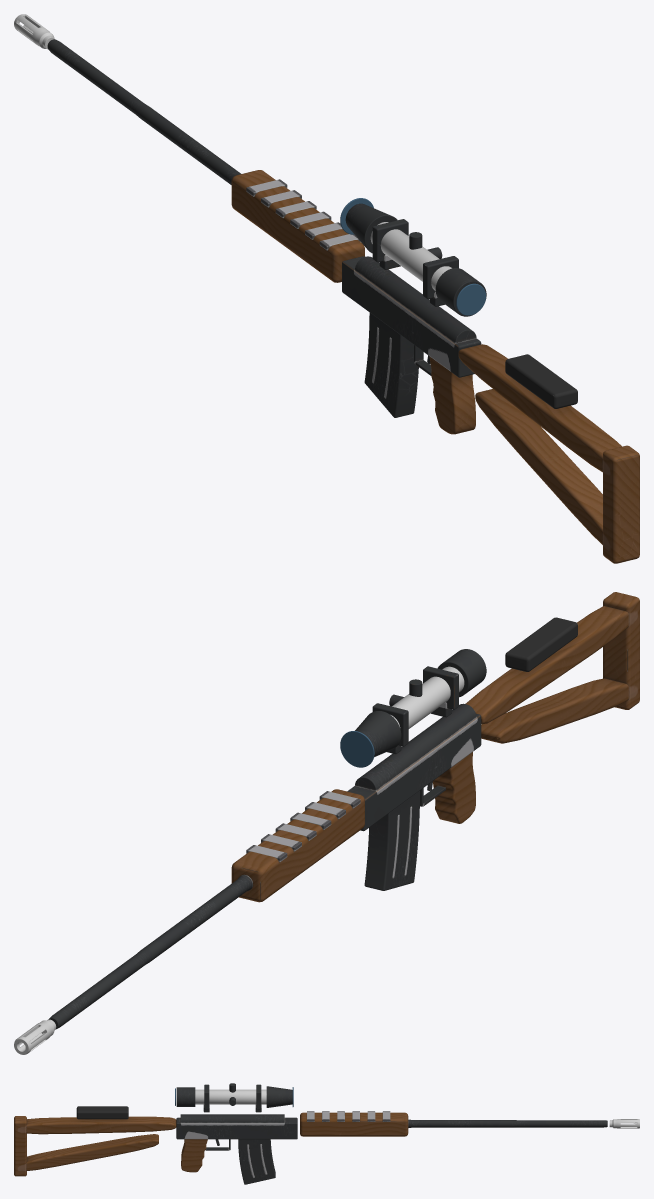
Rendered from svd.gltf.
3 renders of one model, top to bottom at view 1: azimuth 30°, elevation 25°; view 2: azimuth 150°, elevation 25°; view 3: azimuth 270°, elevation 25°, orthographic. The views are drawn at different scales.
Visible parts, largest first — view 1: Frame, Stock, Mag_body, ScopeTube, FlashHider, ScopeLensR; view 2: Frame, Stock, Mag_body, ScopeTube, ScopeLensF, FlashHider; view 3: Frame, Stock, Mag_body, ScopeTube, FlashHider.
Boxes of the visible parts, x1,y1,x2,y2 form: Frame: (47, 39, 486, 434); Stock: (458, 344, 639, 563); Mag_body: (364, 313, 418, 417); ScopeTube: (370, 222, 451, 290); FlashHider: (14, 14, 54, 49); ScopeLensR: (456, 283, 486, 315); Frame: (48, 649, 486, 1029); Stock: (465, 592, 639, 743); Mag_body: (364, 791, 419, 890); ScopeTube: (391, 666, 464, 728); ScopeLensF: (340, 731, 374, 767); FlashHider: (14, 1019, 56, 1054); Frame: (176, 1083, 607, 1172); Stock: (14, 1106, 176, 1176); Mag_body: (238, 1139, 275, 1184); ScopeTube: (195, 1089, 266, 1104); FlashHider: (609, 1119, 639, 1128).
Size of the model in its own units: 0.0577 by 0.2498 by 1.45.
